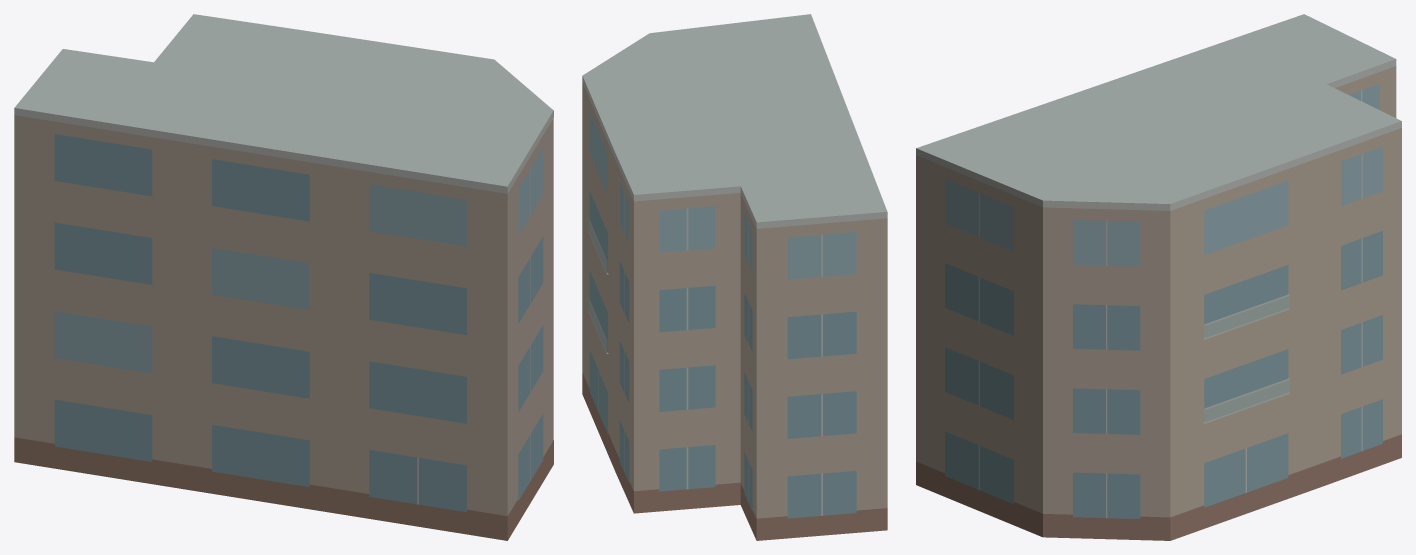
File: survey-upis-32990272.glb
3 renders of one model, left to right at view 1: azimuth 30°, elevation 25°; view 2: azimuth 150°, elevation 25°; view 3: azimuth 270°, elevation 25°, orthographic. The views are drawn at different scales.
Visible parts, largest first — view 1: survey-upis-32990272.tmp; view 2: survey-upis-32990272.tmp; view 3: survey-upis-32990272.tmp.
Part boxes in pixels (x1,y1,x2,y2): survey-upis-32990272.tmp: (14,14,553,540); survey-upis-32990272.tmp: (582,14,887,540); survey-upis-32990272.tmp: (916,14,1401,540).
Size of the model in its own units: 14.54 by 12 by 15.7.
